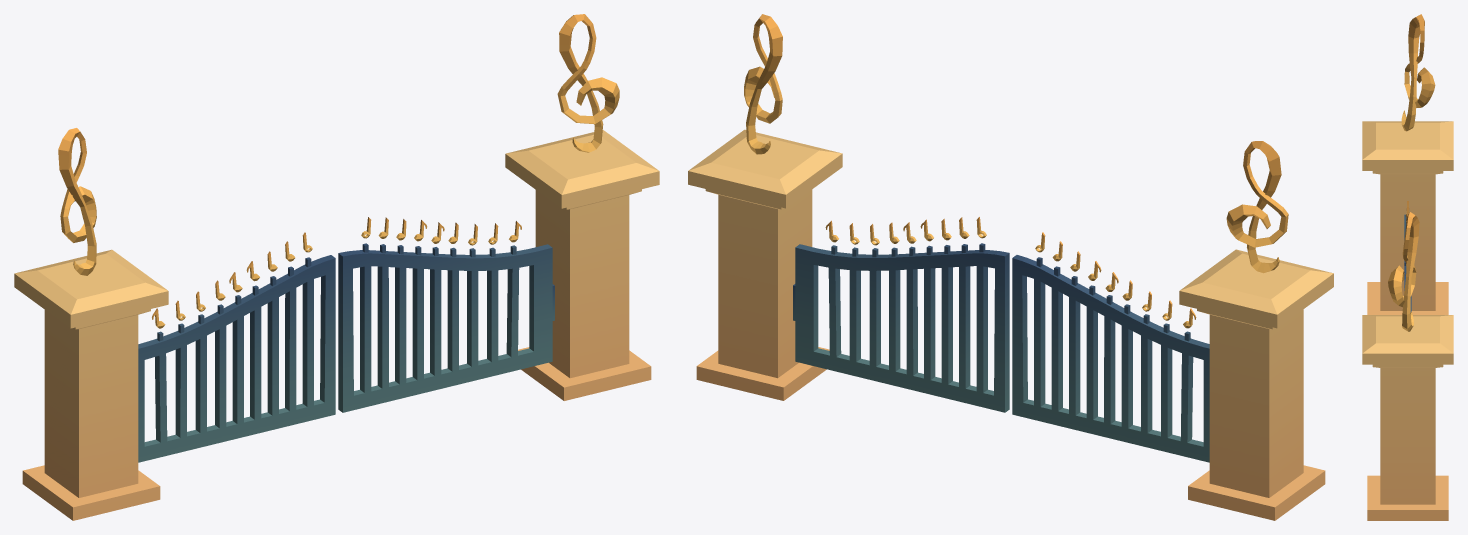
The model's file is PR_GateColumnParentGrp.fbx.
3 views of the same model, side by side, from view 1: azimuth 30°, elevation 25°; view 2: azimuth 150°, elevation 25°; view 3: azimuth 270°, elevation 25° (orthographic). The views are drawn at different scales.
Parts seen in each view (by area): view 1: PR_GateColumn, PR_Gate_01, PR_GateTrebleClef_01; view 2: PR_GateColumn, PR_Gate_01, PR_GateTrebleClef_01; view 3: PR_GateColumn, PR_GateTrebleClef_01, PR_Gate_01.
Part boxes in pixels (<box>): PR_GateColumn: <box>14,130,659,520</box>; PR_Gate_01: <box>138,217,552,462</box>; PR_GateTrebleClef_01: <box>58,14,619,275</box>; PR_GateColumn: <box>688,129,1333,520</box>; PR_Gate_01: <box>795,217,1209,462</box>; PR_GateTrebleClef_01: <box>744,14,1288,273</box>; PR_GateColumn: <box>1362,121,1453,520</box>; PR_GateTrebleClef_01: <box>1388,14,1435,331</box>; PR_Gate_01: <box>1404,201,1411,312</box>.
Size of the model in its own units: 259 by 151 by 43.11.
Materials: 1 (1 with a texture image).
